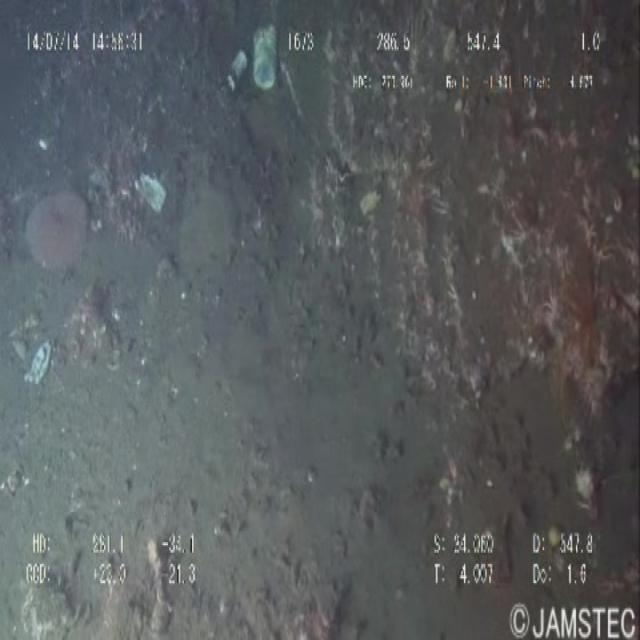Glass: (221, 48, 249, 118)
Litter: (21, 327, 59, 393), (135, 158, 168, 225)
Plastic: (251, 10, 289, 109)
